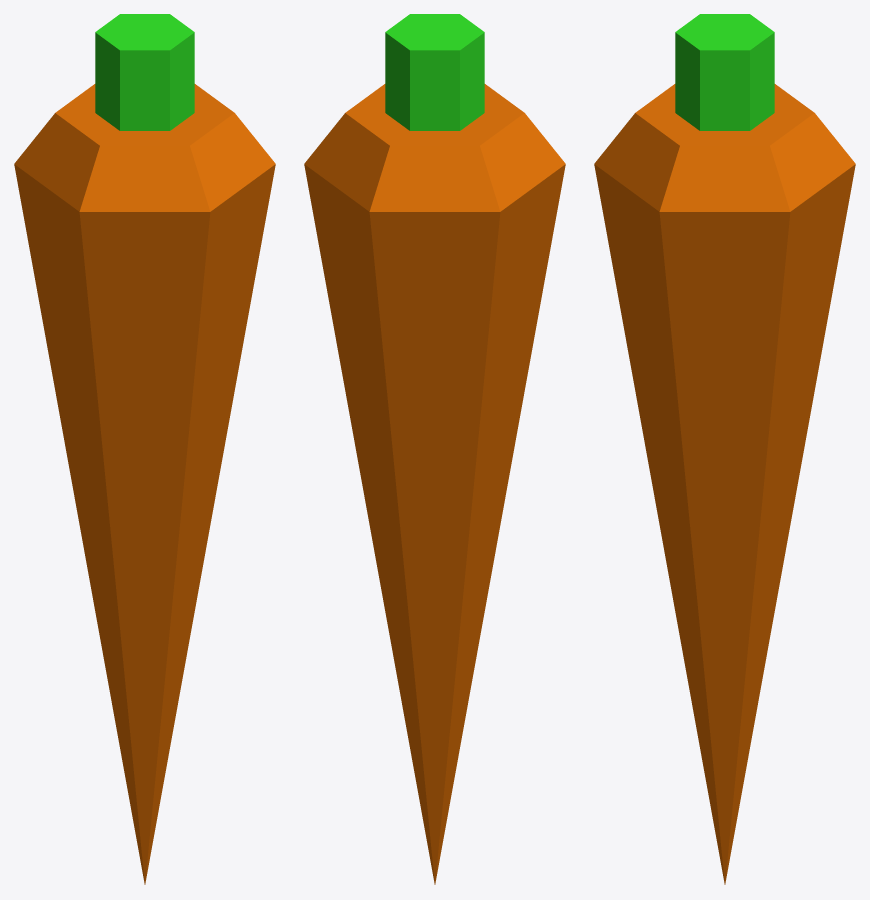
File: carrot.fbx
3 renders of one model, left to right at view 1: azimuth 30°, elevation 25°; view 2: azimuth 150°, elevation 25°; view 3: azimuth 270°, elevation 25°, orthographic.
Parts seen in each view (by area): view 1: Cone, Cylinder; view 2: Cone, Cylinder; view 3: Cone, Cylinder.
Part boxes in pixels (<box>): Cone: <box>14,84,275,884</box>; Cylinder: <box>95,14,194,130</box>; Cone: <box>304,84,565,884</box>; Cylinder: <box>385,14,484,130</box>; Cone: <box>594,84,855,884</box>; Cylinder: <box>675,14,774,130</box>.
Size of the model in its own units: 173 by 720 by 200.
